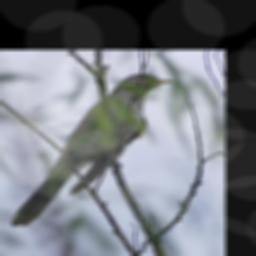Cuckoo: (3, 69, 174, 233)
